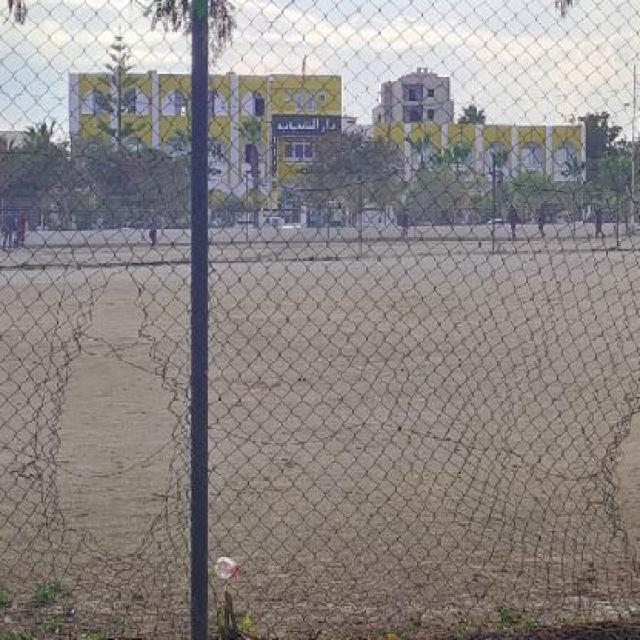fence line: (51, 273, 186, 558), (604, 418, 639, 567)
